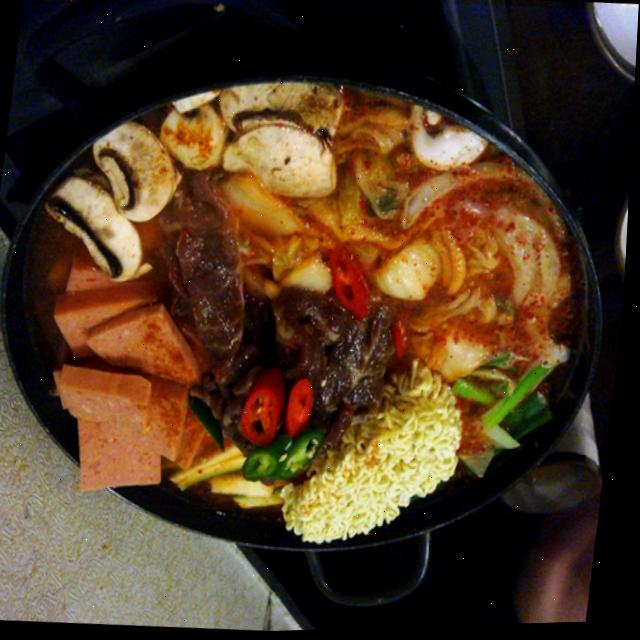汤锅炖物: (0, 86, 606, 568)
